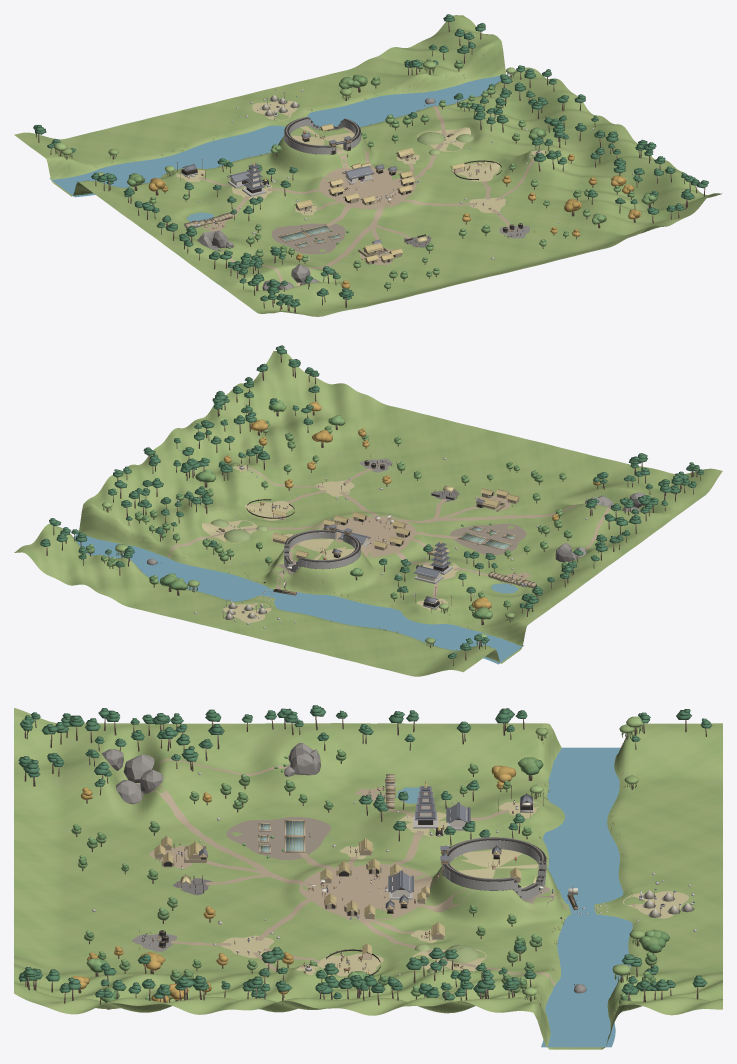
File: samguk.glb
The picture shows the model from 3 angles, top to bottom: view 1: azimuth 30°, elevation 25°; view 2: azimuth 150°, elevation 25°; view 3: azimuth 270°, elevation 25°; orthographic projection. The views are drawn at different scales.
Parts seen in each view (by area): view 1: ground, static_pine, river, static_dirt, static_leaf2, static_dry, static_bark, static_stone, static_thatch, static_leaf_autumn, static_mud, static_wall_stone (+4 smaller); view 2: ground, static_pine, river, static_dirt, static_dry, static_leaf2, static_bark, static_leaf, static_mud, static_stone, static_leaf_autumn, static_thatch (+5 smaller); view 3: ground, river, static_pine, static_dirt, static_dry, static_leaf2, static_bark, static_mud, static_leaf, static_stone, static_wall_stone, static_thatch (+6 smaller).
Boxes of the visible parts, left/top/right/bottom form: ground: left=14, top=15, right=722, bottom=316; static_pine: left=33, top=14, right=708, bottom=307; river: left=49, top=74, right=506, bottom=197; static_dirt: left=198, top=105, right=535, bottom=286; static_leaf2: left=127, top=59, right=656, bottom=288; static_dry: left=94, top=52, right=546, bottom=215; static_bark: left=35, top=22, right=705, bottom=313; static_stone: left=198, top=89, right=658, bottom=262; static_thatch: left=294, top=124, right=465, bottom=261; static_leaf_autumn: left=148, top=154, right=641, bottom=288; static_mud: left=271, top=223, right=345, bottom=254; static_wall_stone: left=284, top=118, right=360, bottom=154; ground: left=14, top=351, right=722, bottom=676; static_pine: left=40, top=345, right=703, bottom=658; river: left=73, top=534, right=523, bottom=664; static_dirt: left=167, top=467, right=610, bottom=605; static_dry: left=74, top=465, right=472, bottom=647; static_leaf2: left=87, top=400, right=572, bottom=619; static_bark: left=46, top=354, right=700, bottom=665; static_leaf: left=86, top=404, right=569, bottom=618; static_mud: left=270, top=523, right=526, bottom=578; static_stone: left=177, top=403, right=587, bottom=628; static_leaf_autumn: left=224, top=401, right=601, bottom=610; static_thatch: left=271, top=488, right=520, bottom=557; ground: left=14, top=708, right=722, bottom=1049; river: left=541, top=747, right=632, bottom=1047; static_pine: left=18, top=705, right=712, bottom=1000; static_dirt: left=136, top=759, right=635, bottom=985; static_dry: left=221, top=740, right=688, bottom=1010; static_leaf2: left=71, top=749, right=663, bottom=1004; static_bark: left=24, top=716, right=706, bottom=1010; static_mud: left=226, top=816, right=556, bottom=910; static_leaf: left=74, top=751, right=669, bottom=1002; static_stone: left=92, top=772, right=696, bottom=1000; static_wall_stone: left=442, top=840, right=546, bottom=900; static_thatch: left=154, top=836, right=521, bottom=954.
Size of the model in its own units: 260 by 33.36 by 260.
